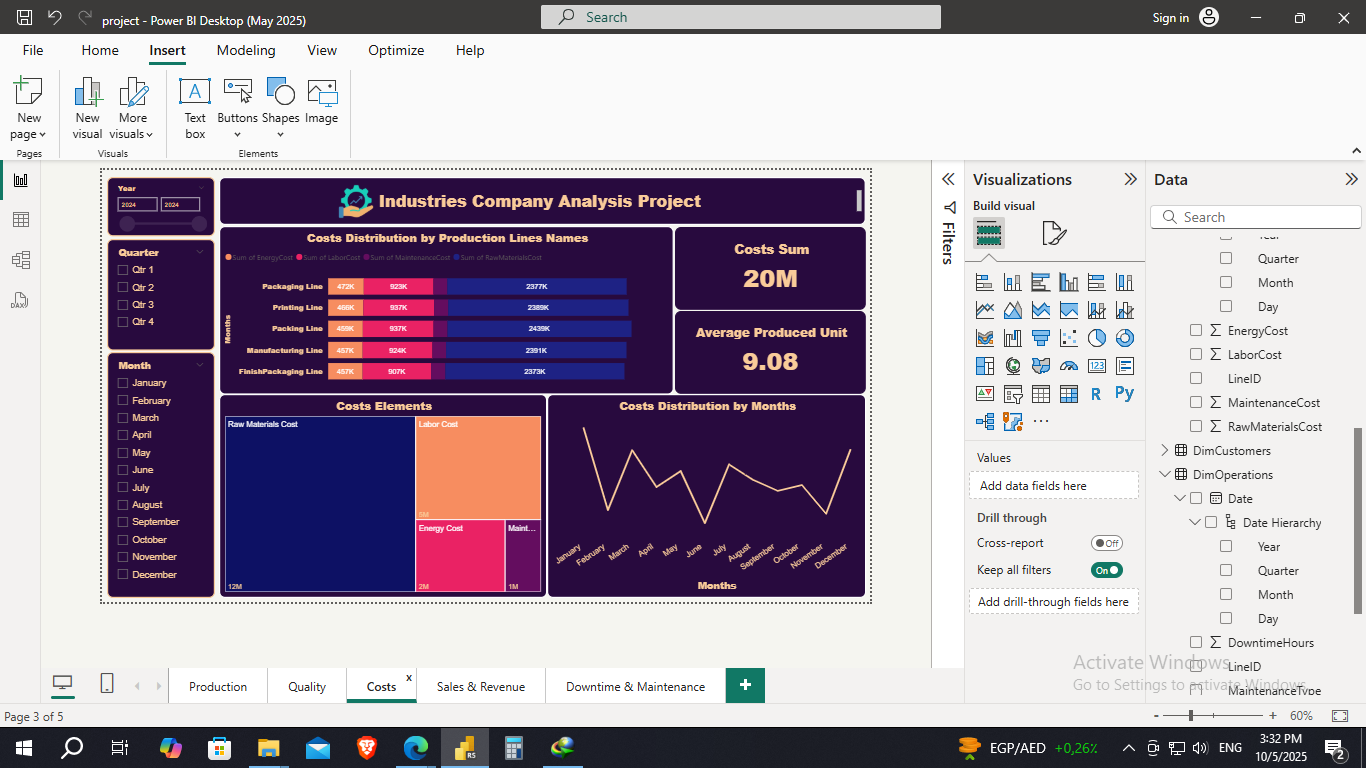

What the dashboard file says about the page in this screenshot:
{"tool":"powerbi","page":{"name":"Costs","canvas":[1280,720],"ordinal":2},"visuals":[{"type":"textbox","box":[194.9,11.8,1078.4,80],"z":0,"group":"g1"},{"type":"card","title":"Costs Sum","fields":{"Values":["A_Measure_Table.CostsSum"]},"box":[955,95,318.3,138.3],"z":0},{"type":"slicer","title":"Year","fields":{"Values":["DimCosts.Date.Variation.Date Hierarchy.Year"]},"box":[8.4,11.8,179.7,99.1],"z":1000},{"type":"image","box":[384.7,14.7,77.7,74.6],"z":1000,"group":"g1"},{"type":"lineChart","title":"Costs Distribution by Months","fields":{"Y":["A_Measure_Table.CostsSum"],"Category":["DimCosts.Date.Variation.Date Hierarchy.Month"]},"box":[741.7,373.3,531.7,340],"z":2000},{"type":"barChart","title":"Costs Distribution by Production Lines Names","fields":{"Category":["FactProductionLines.LineName"],"Y":["Sum(DimCosts.EnergyCost)","Sum(DimCosts.LaborCost)","Sum(DimCosts.MaintenanceCost)","Sum(DimCosts.RawMaterialsCost)"]},"box":[194.4,93.6,758,280.8],"z":3000},{"type":"card","title":"Average Produced Unit","fields":{"Values":["A_Measure_Table.ProducedUnitAVG"]},"box":[955,235,318.3,138],"z":4000},{"type":"slicer","title":"Year","fields":{"Values":["DimCosts.Date.Variation.Date Hierarchy.Quarter"]},"box":[8.4,114.2,179.7,186.5],"z":5000},{"type":"slicer","title":"Year","fields":{"Values":["DimCosts.Date.Variation.Date Hierarchy.Month"]},"box":[8.4,304,179.7,409.9],"z":6000},{"type":"treemap","title":"Costs Elements","fields":{"Values":["Sum(DimCosts.EnergyCost)","Sum(DimCosts.LaborCost)","Sum(DimCosts.MaintenanceCost)","Sum(DimCosts.RawMaterialsCost)"]},"box":[195,373.3,546.7,340],"z":8000},{"type":"group","id":"g1","title":"Group 1","box":[194.9,11.8,1078.4,80],"z":8001}]}

Visuals, with their boxes on the page's 1280x720 design canvas (x1, y1, x2, y2). These are canvas units, not pixel positions in the 1366x768 screenshot, which may show the page scaled, cropped or inside an application window:
textbox: bbox=(195, 12, 1273, 92)
"Costs Sum" card: bbox=(955, 95, 1273, 233)
"Year" slicer: bbox=(8, 12, 188, 111)
image: bbox=(385, 15, 462, 89)
"Costs Distribution by Months" lineChart: bbox=(742, 373, 1273, 713)
"Costs Distribution by Production Lines Names" barChart: bbox=(194, 94, 952, 374)
"Average Produced Unit" card: bbox=(955, 235, 1273, 373)
"Year" slicer: bbox=(8, 114, 188, 301)
"Year" slicer: bbox=(8, 304, 188, 714)
"Costs Elements" treemap: bbox=(195, 373, 742, 713)
"Group 1" group: bbox=(195, 12, 1273, 92)
